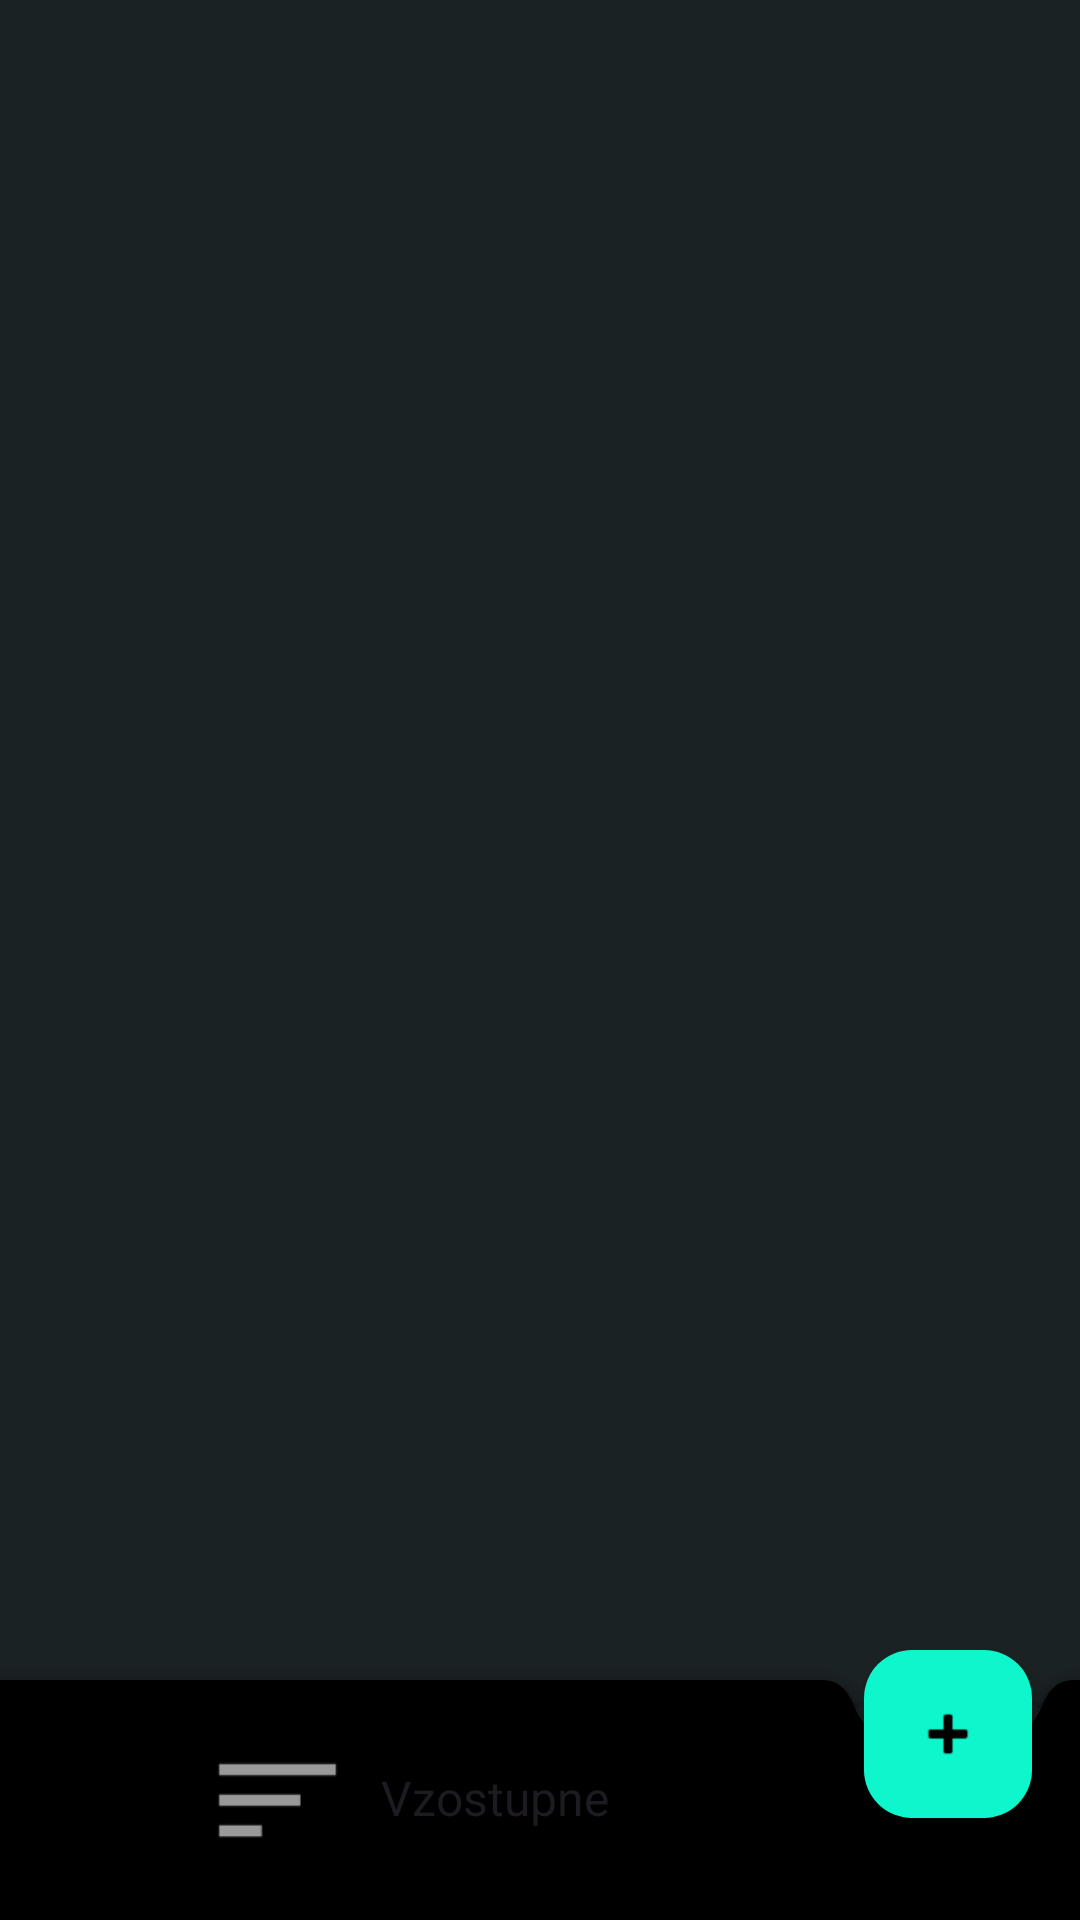

Icons on this 1080 × 1920 Android screen, each with the point to tap as (x=x, y=y):
sort by size: (x=277, y=1800)
